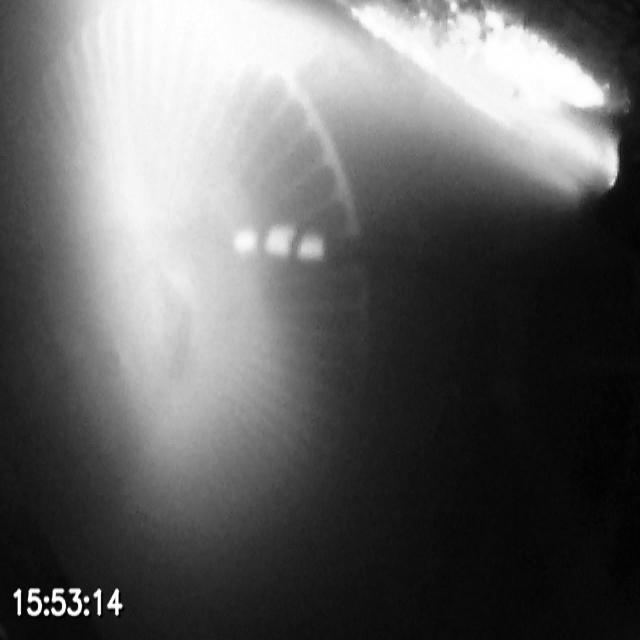white-dots: (232, 223, 327, 264)
